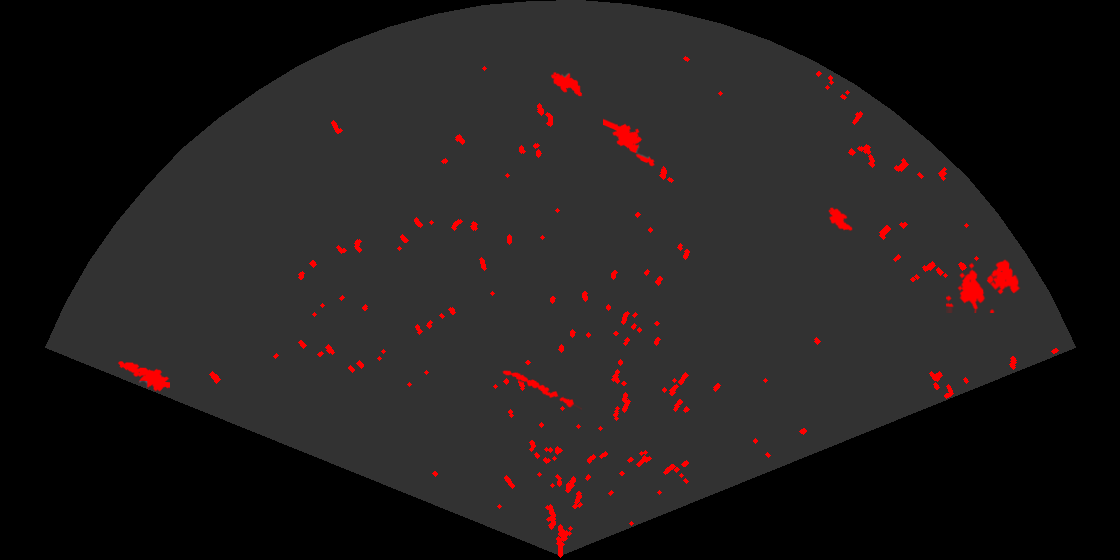AUV: (549, 70, 584, 98), (827, 206, 854, 233)
cage: (946, 258, 1022, 313)
chain: (501, 369, 582, 411)
frogman: (603, 117, 664, 169), (116, 360, 170, 393)
